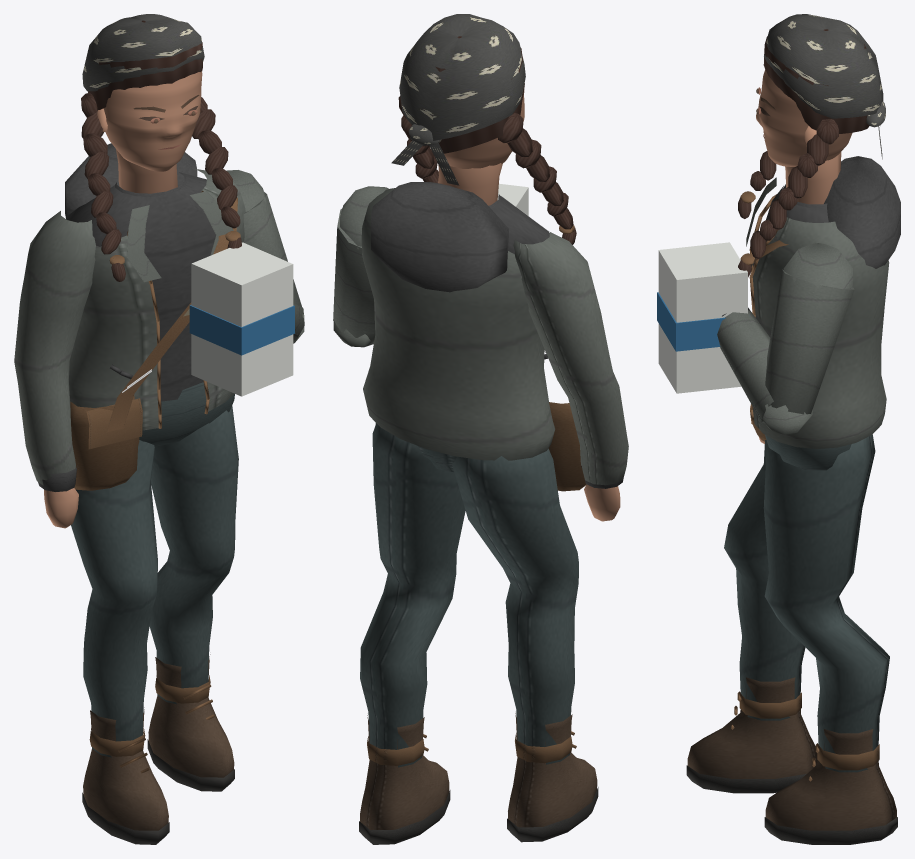
Rendered from HERO-01_tais-milk.glb.
3 views of the same model, side by side, from view 1: azimuth 30°, elevation 25°; view 2: azimuth 150°, elevation 25°; view 3: azimuth 270°, elevation 25° (orthographic). The views are drawn at different scales.
Parts seen in each view (by area): view 1: tais · metal; view 2: tais · metal; view 3: tais · metal.
Boxes of the visible parts, x1,y1,x2,y2 form: tais · metal: (14, 14, 304, 844); tais · metal: (333, 14, 628, 844); tais · metal: (657, 14, 900, 844).
Size of the model in its own units: 0.6051 by 1.62 by 0.457.
Materials: 5 (2 with a texture image).
